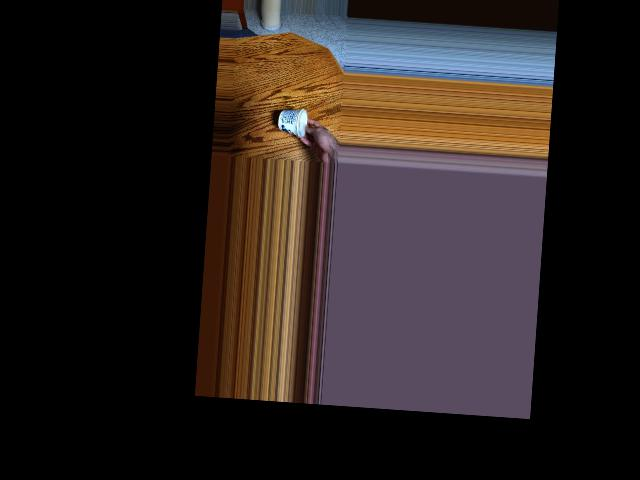cotage: (278, 108, 310, 140)
